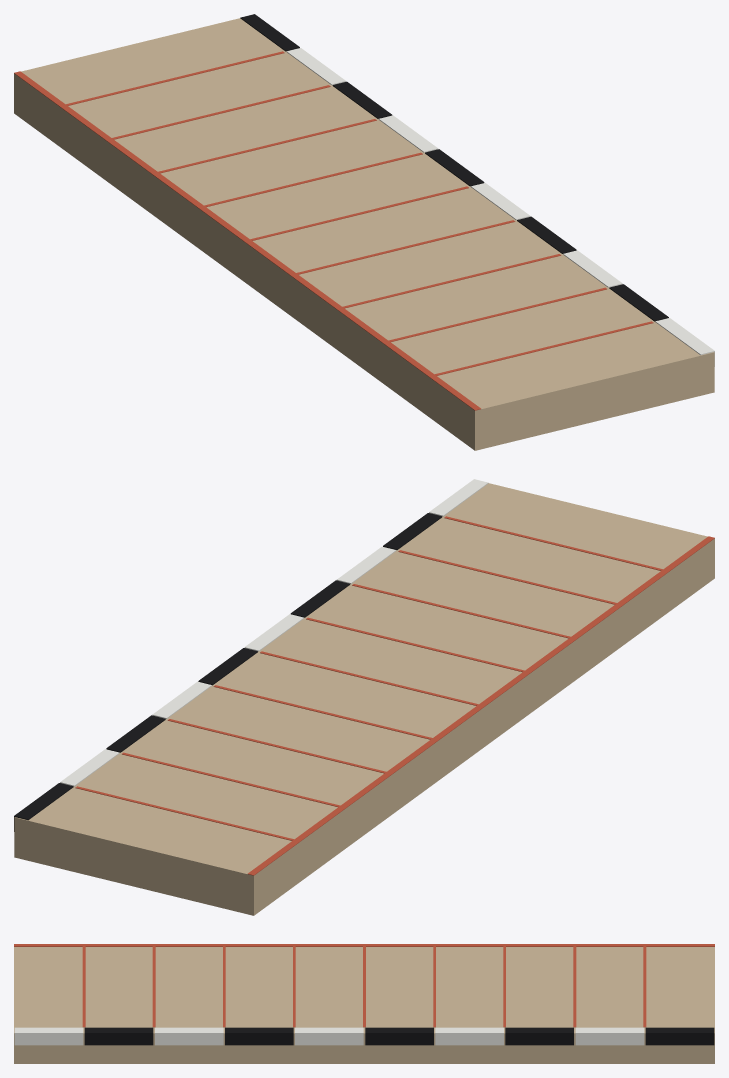
Rendered from env_curb_edge.fbx.
3 views of the same model, one above another, from view 1: azimuth 30°, elevation 25°; view 2: azimuth 150°, elevation 25°; view 3: azimuth 270°, elevation 25° (orthographic). The views are drawn at different scales.
Visible parts, largest first — view 1: env_curb_edge_geo; view 2: env_curb_edge_geo; view 3: env_curb_edge_geo.
Part boxes in pixels (x1,y1,x2,y2): env_curb_edge_geo: (14,14,714,450); env_curb_edge_geo: (14,479,714,915); env_curb_edge_geo: (14,944,714,1063).
Bounding box in the file's own units: 3.01 × 0.491 × 10.
